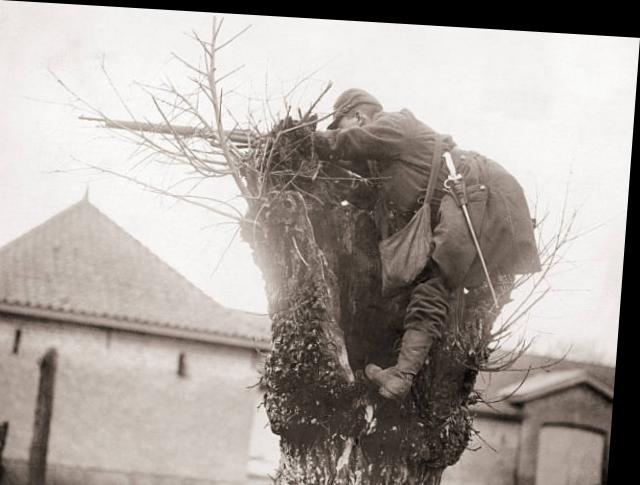other: (285, 85, 541, 337)
